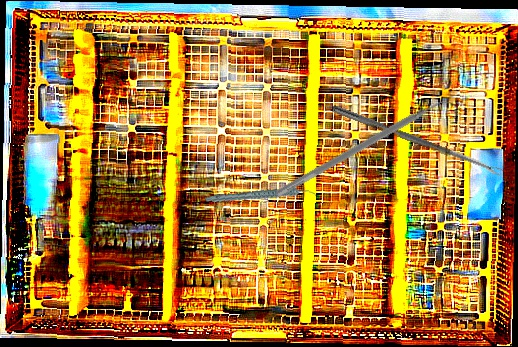Handpiece: (204, 173, 317, 220)
Spatula Surgical: (274, 91, 456, 205)
Surgical Spoon: (330, 104, 504, 178)
